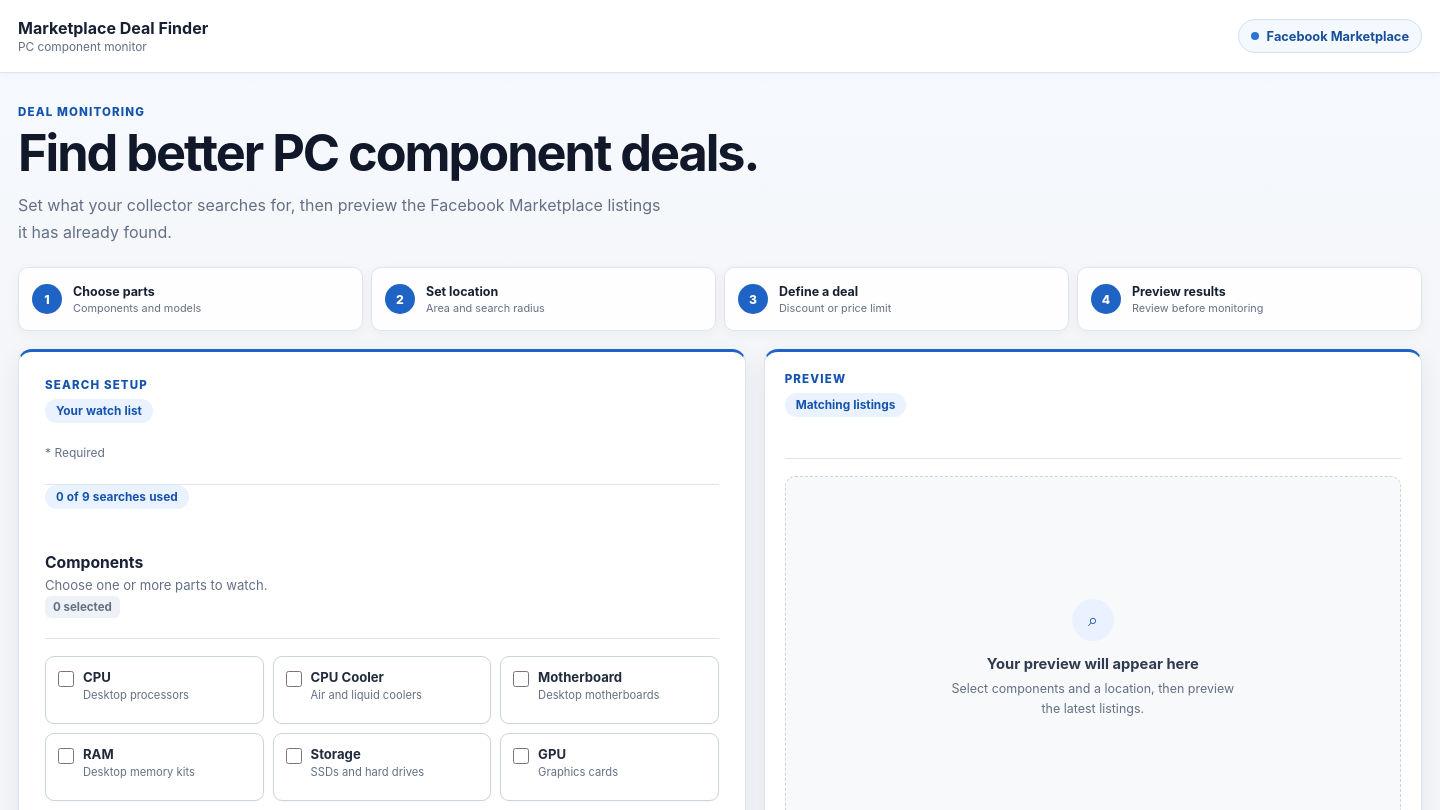
Marketplace Deal Finder › keeps the ordinary empty state when the server sent nothing
Click the checkbox named "GPU:": (521, 756) [513,748,529,764]
(page scrolled)
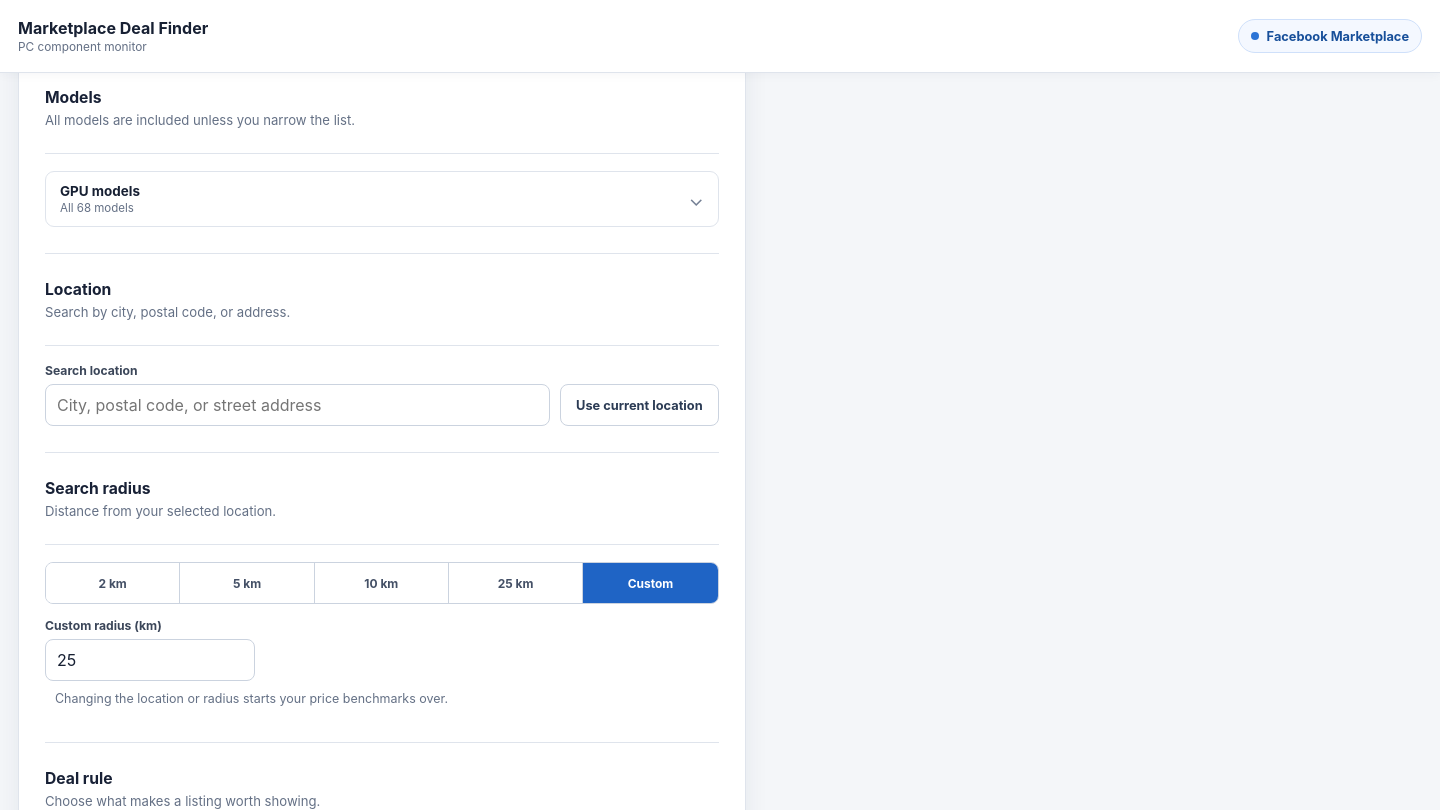
In the search field labelled "Search location": (298, 405) [45,384,550,426], type "Toronto"
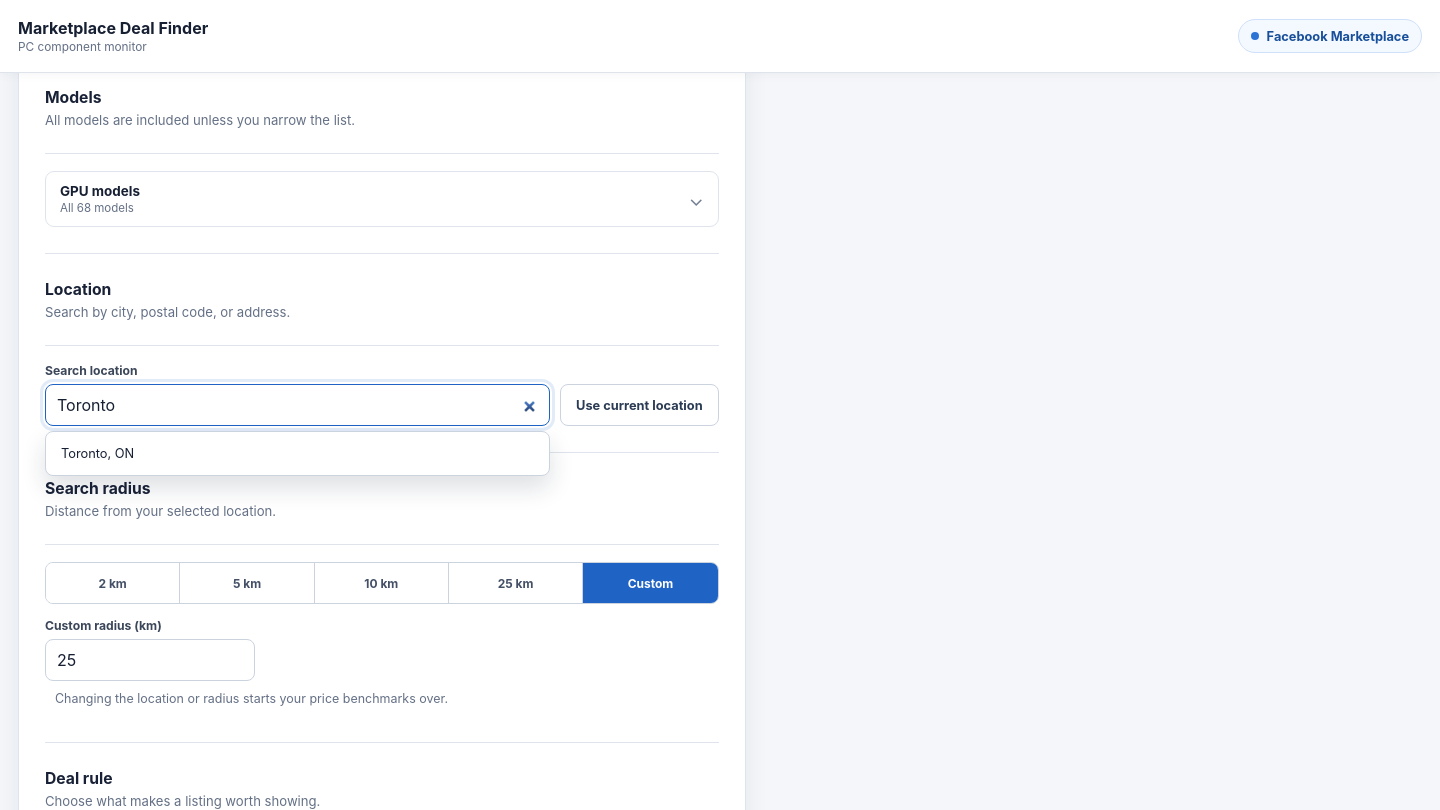
Click the button "Toronto, ON": (98, 454) [51,437,544,470]
(page scrolled)
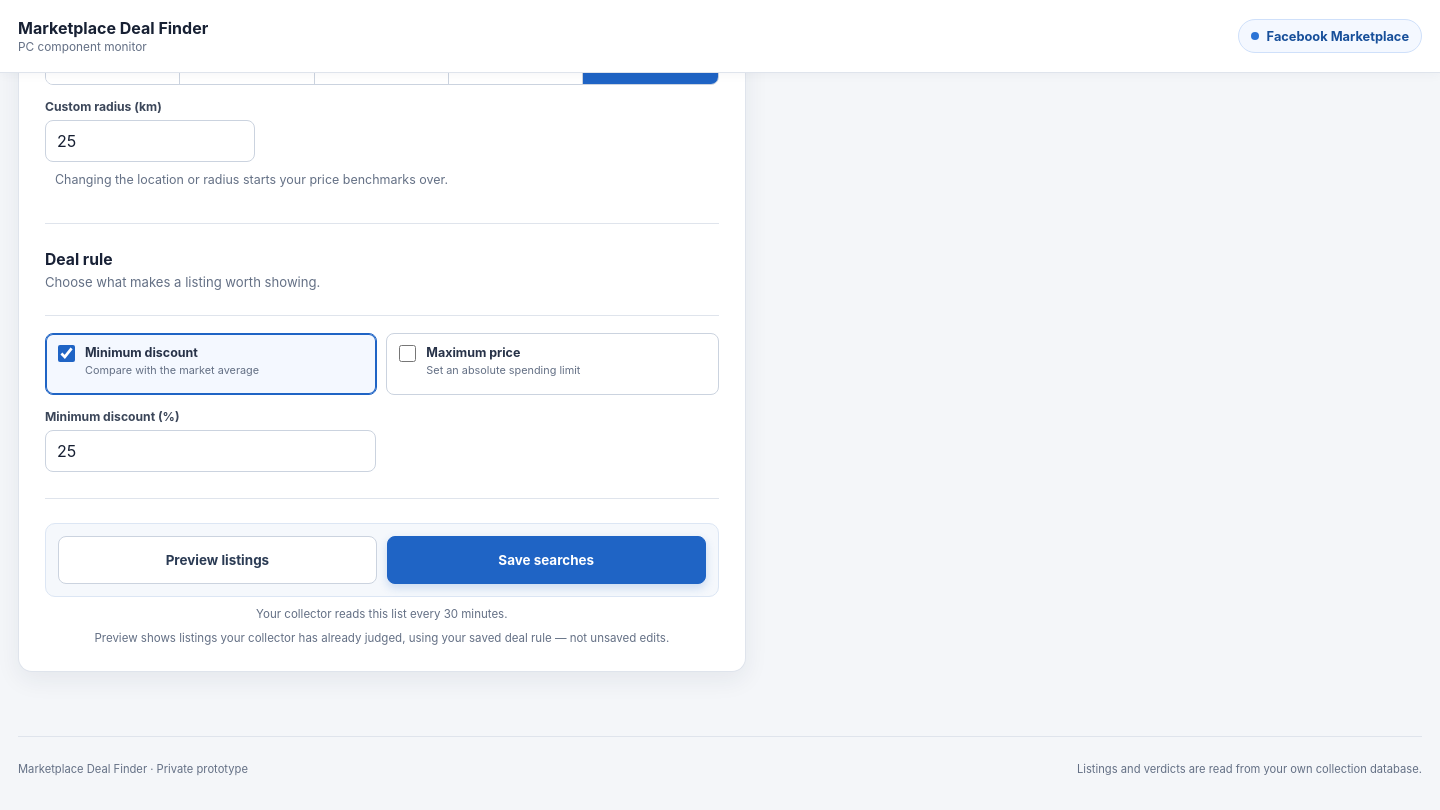
Click the button "Preview listings": (217, 560) [58,536,377,584]
(page scrolled)
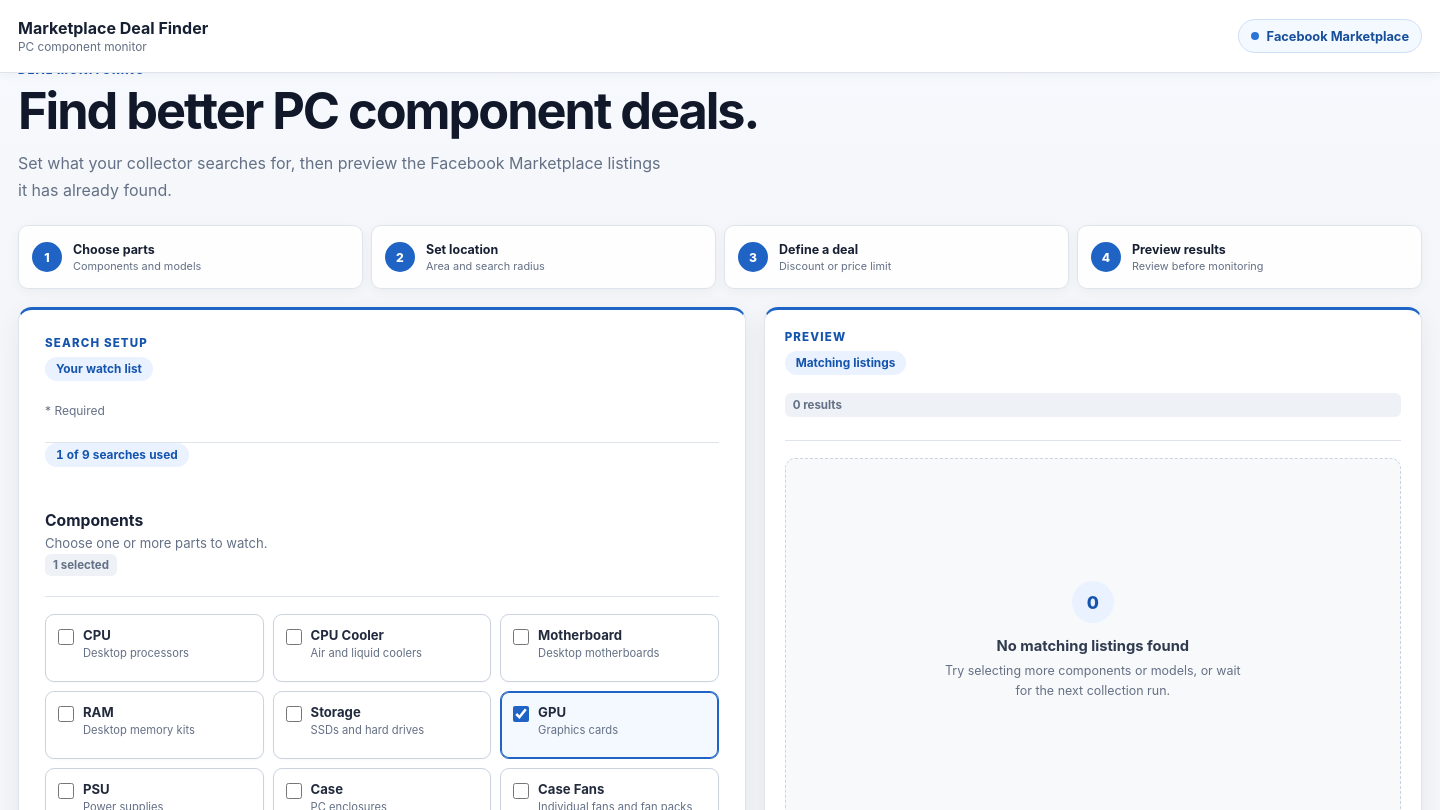
Expected: the heading "No matching listings found" is shown, [996,637,1189,655]
Expected: the text "wait for the next collection run" is shown, [945,663,1241,698]
Expected: the text "0 results" is shown, [785,393,1401,417]
